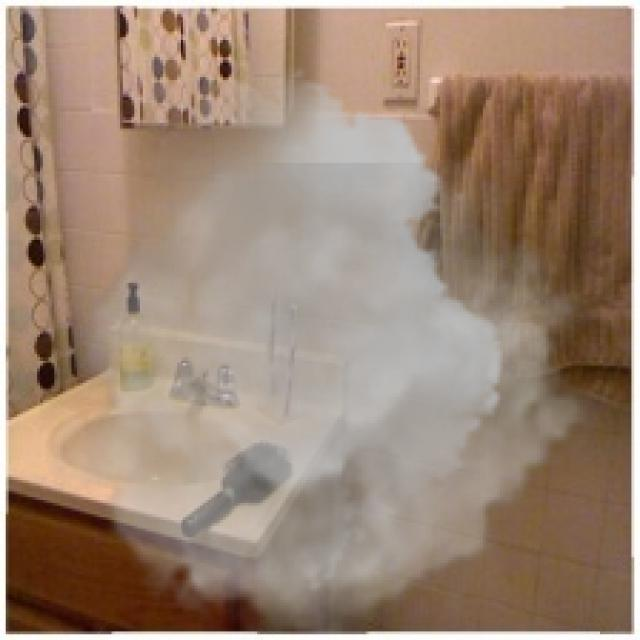smoke: (45, 69, 606, 634)
